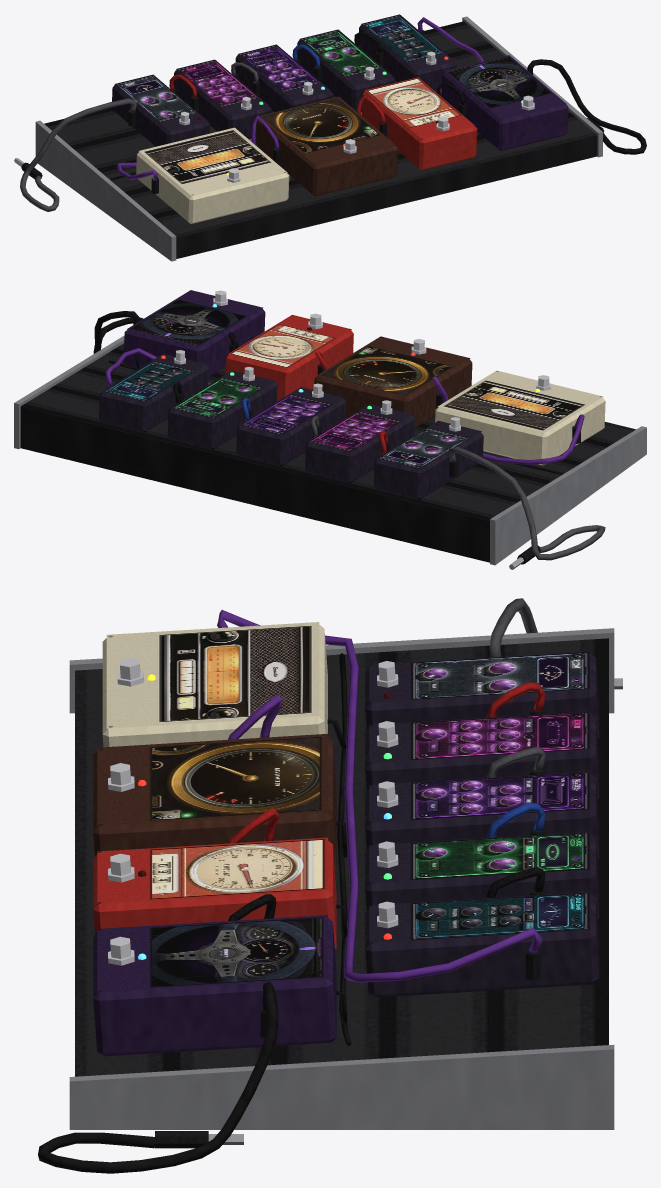
The model's file is pedalboard.glb.
The picture shows the model from 3 angles, top to bottom: view 1: azimuth 30°, elevation 25°; view 2: azimuth 150°, elevation 25°; view 3: azimuth 270°, elevation 25°; orthographic projection. The views are drawn at different scales.
Visible parts, largest first — view 1: pedalboard; view 2: pedalboard; view 3: pedalboard.
Part boxes in pixels (x1,y1,x2,y2): pedalboard: (14,14,646,261); pedalboard: (14,290,646,569); pedalboard: (38,598,622,1173).
Size of the model in its own units: 0.6822 by 0.0939 by 0.3289.
1 material, 1 textured.
